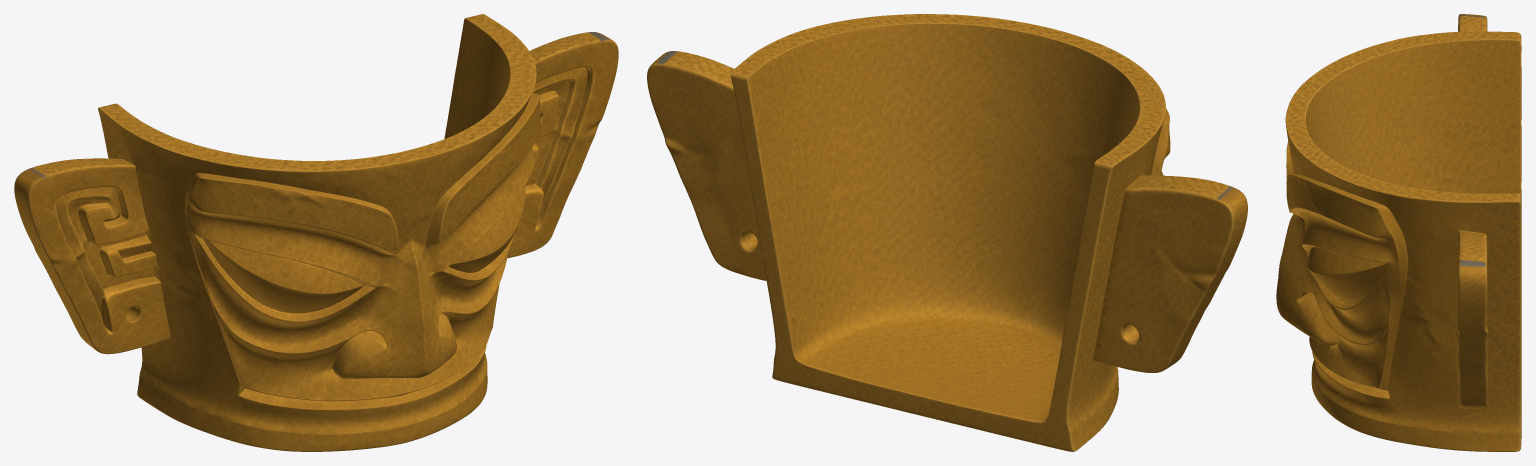
Rendered from gold-mask.glb.
The picture shows the model from 3 angles, left to right: view 1: azimuth 30°, elevation 25°; view 2: azimuth 150°, elevation 25°; view 3: azimuth 270°, elevation 25°; orthographic projection. The views are drawn at different scales.
Bounding box in the file's own units: 1.9 × 0.9216 × 0.7583.
1 material, 1 textured.
